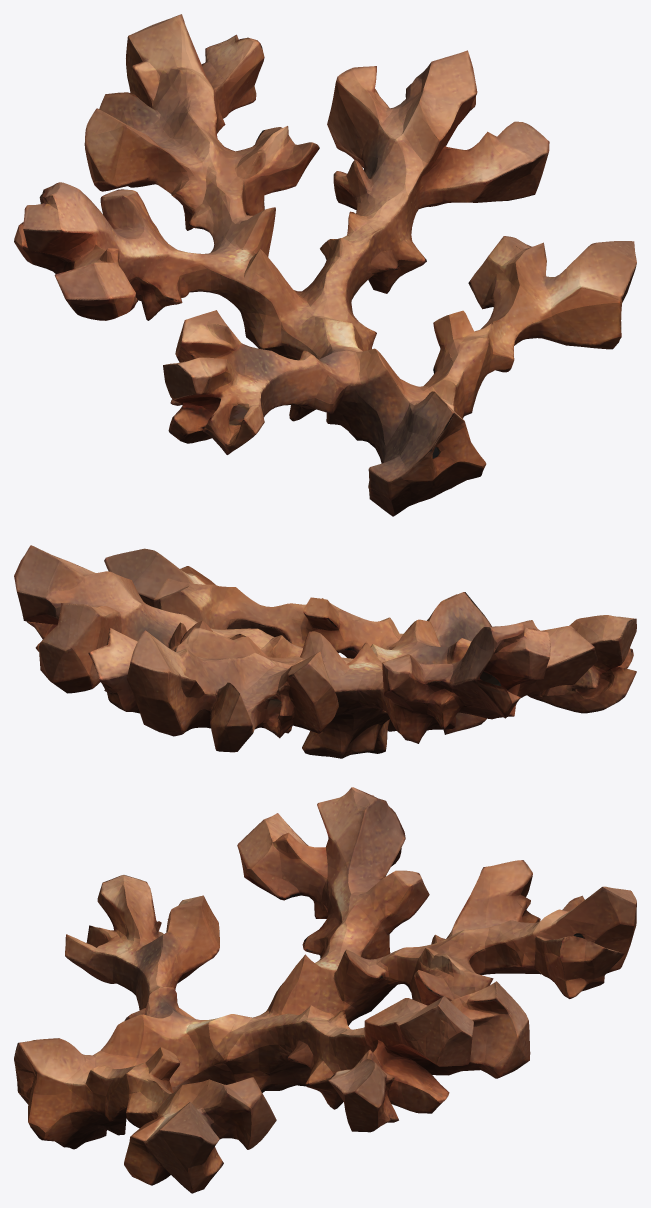
3 renders of one model, top to bottom at view 1: azimuth 30°, elevation 25°; view 2: azimuth 150°, elevation 25°; view 3: azimuth 270°, elevation 25°, orthographic. The views are drawn at different scales.
Visible parts, largest first — view 1: world; view 2: world; view 3: world.
Part boxes in pixels (box(x1,y1,x2,y2)): world: box(14, 14, 636, 516); world: box(14, 545, 636, 758); world: box(14, 787, 636, 1193).
Bounding box in the file's own units: 0.1367 × 0.0691 × 0.14.
1 material, 1 textured.
